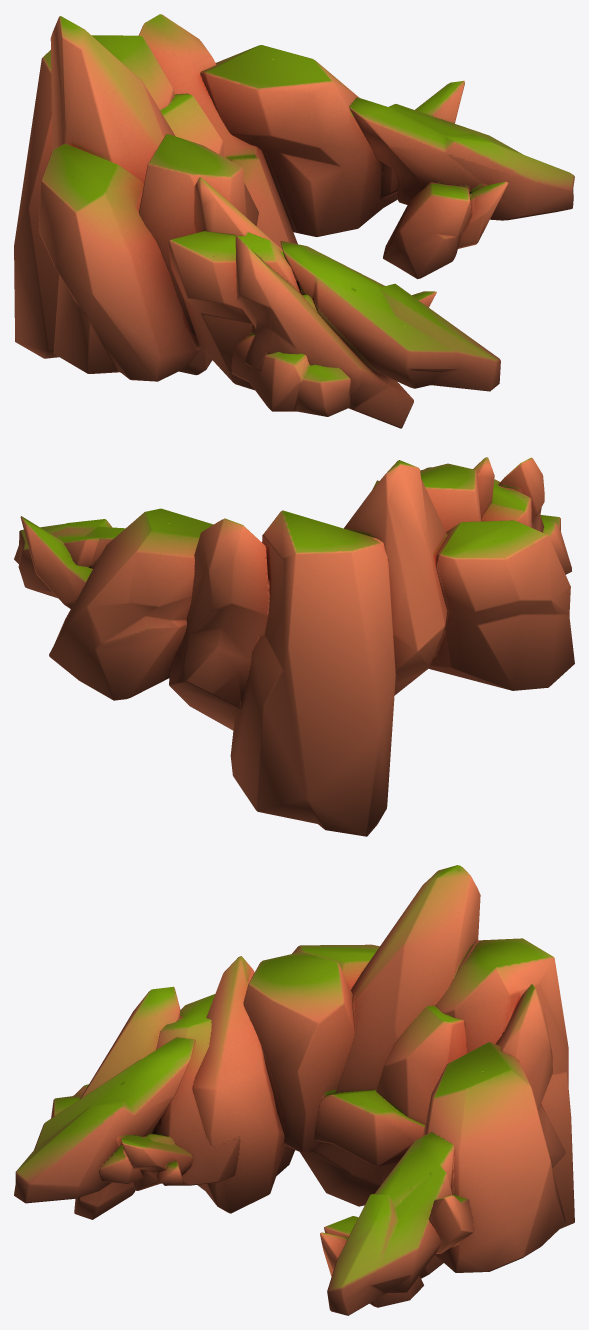
Rendered from CaveLight.fbx.
3 renders of one model, top to bottom at view 1: azimuth 30°, elevation 25°; view 2: azimuth 150°, elevation 25°; view 3: azimuth 270°, elevation 25°, orthographic. The views are drawn at different scales.
Visible parts, largest first — view 1: CaveLight_low; view 2: CaveLight_low; view 3: CaveLight_low.
Boxes of the visible parts, <box> form: CaveLight_low: <box>14,14,574,428</box>; CaveLight_low: <box>14,457,574,836</box>; CaveLight_low: <box>14,865,574,1315</box>.
Bounding box in the file's own units: 1346 × 875 × 1284.
